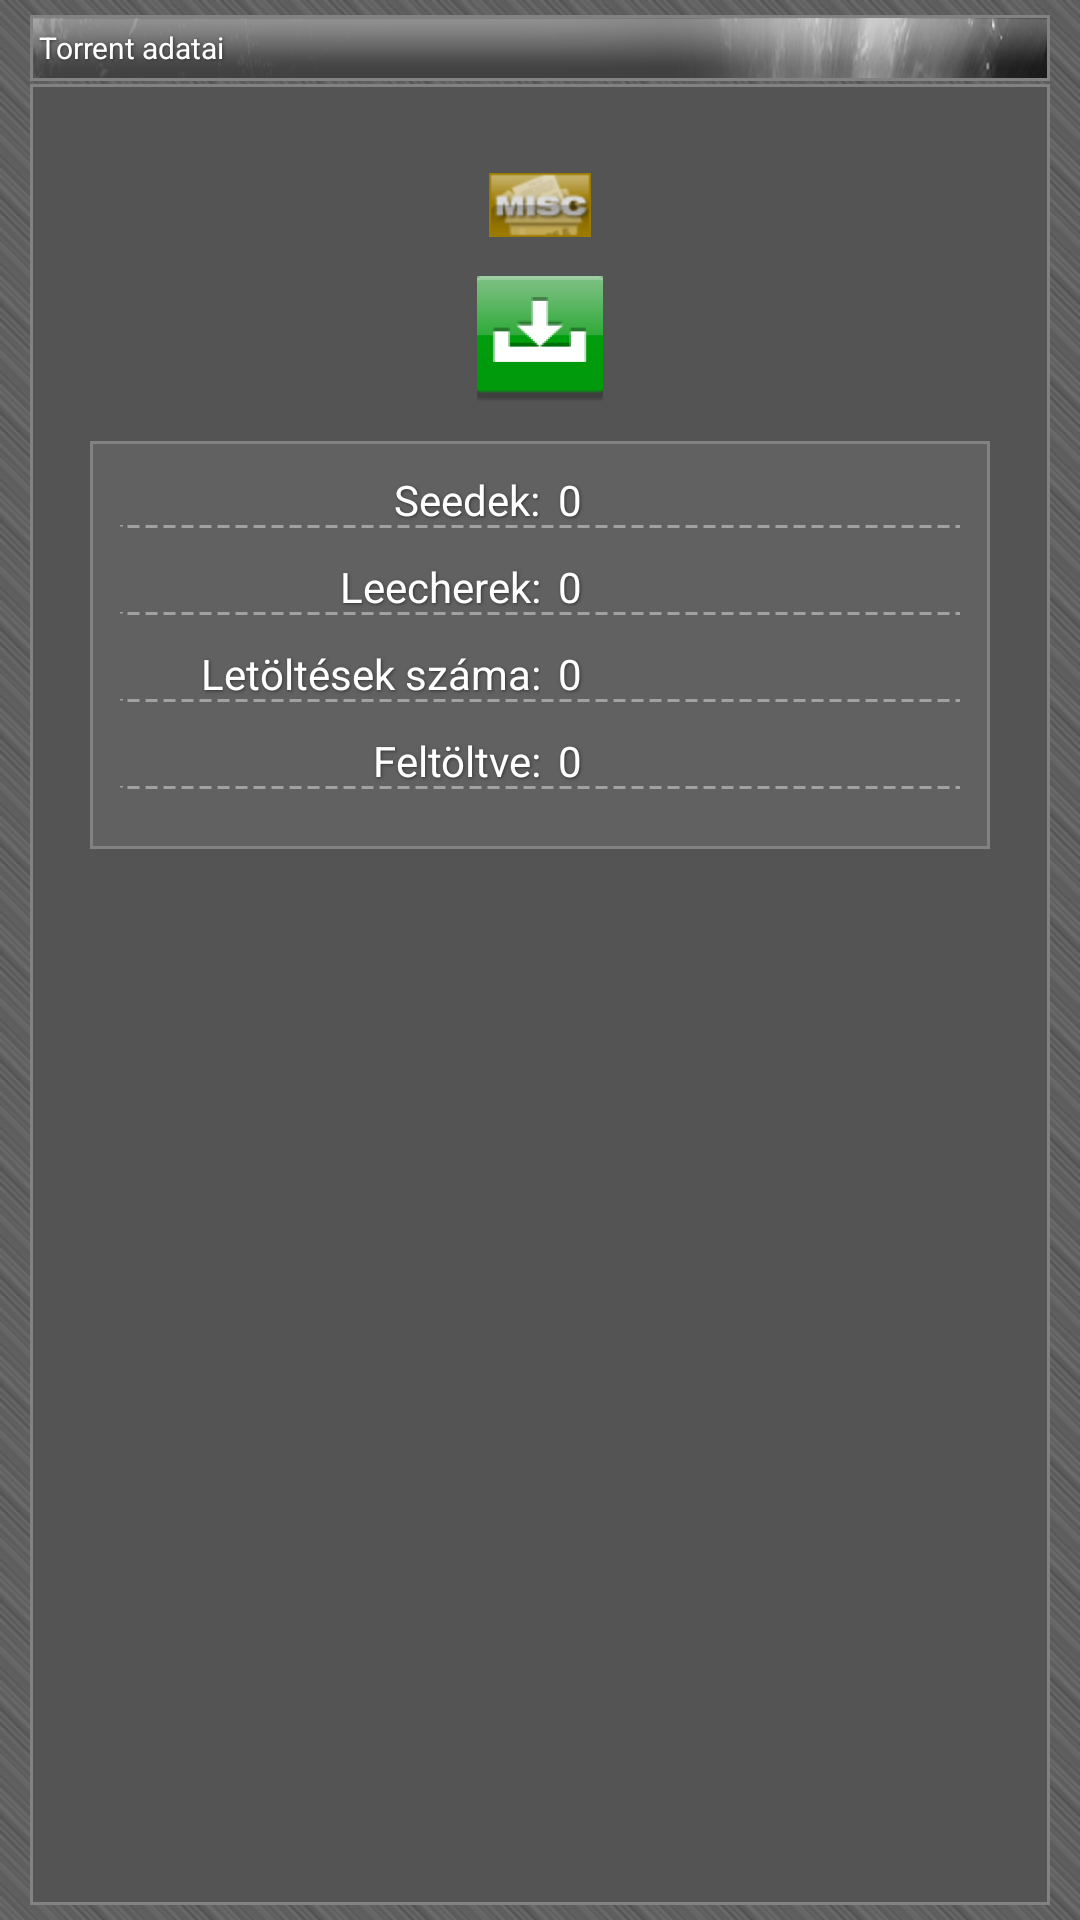

Where icons sit on this 1080×1920 app screen, as detection(x1, y1, x2, y2):
download: detection(477, 276, 603, 393)
